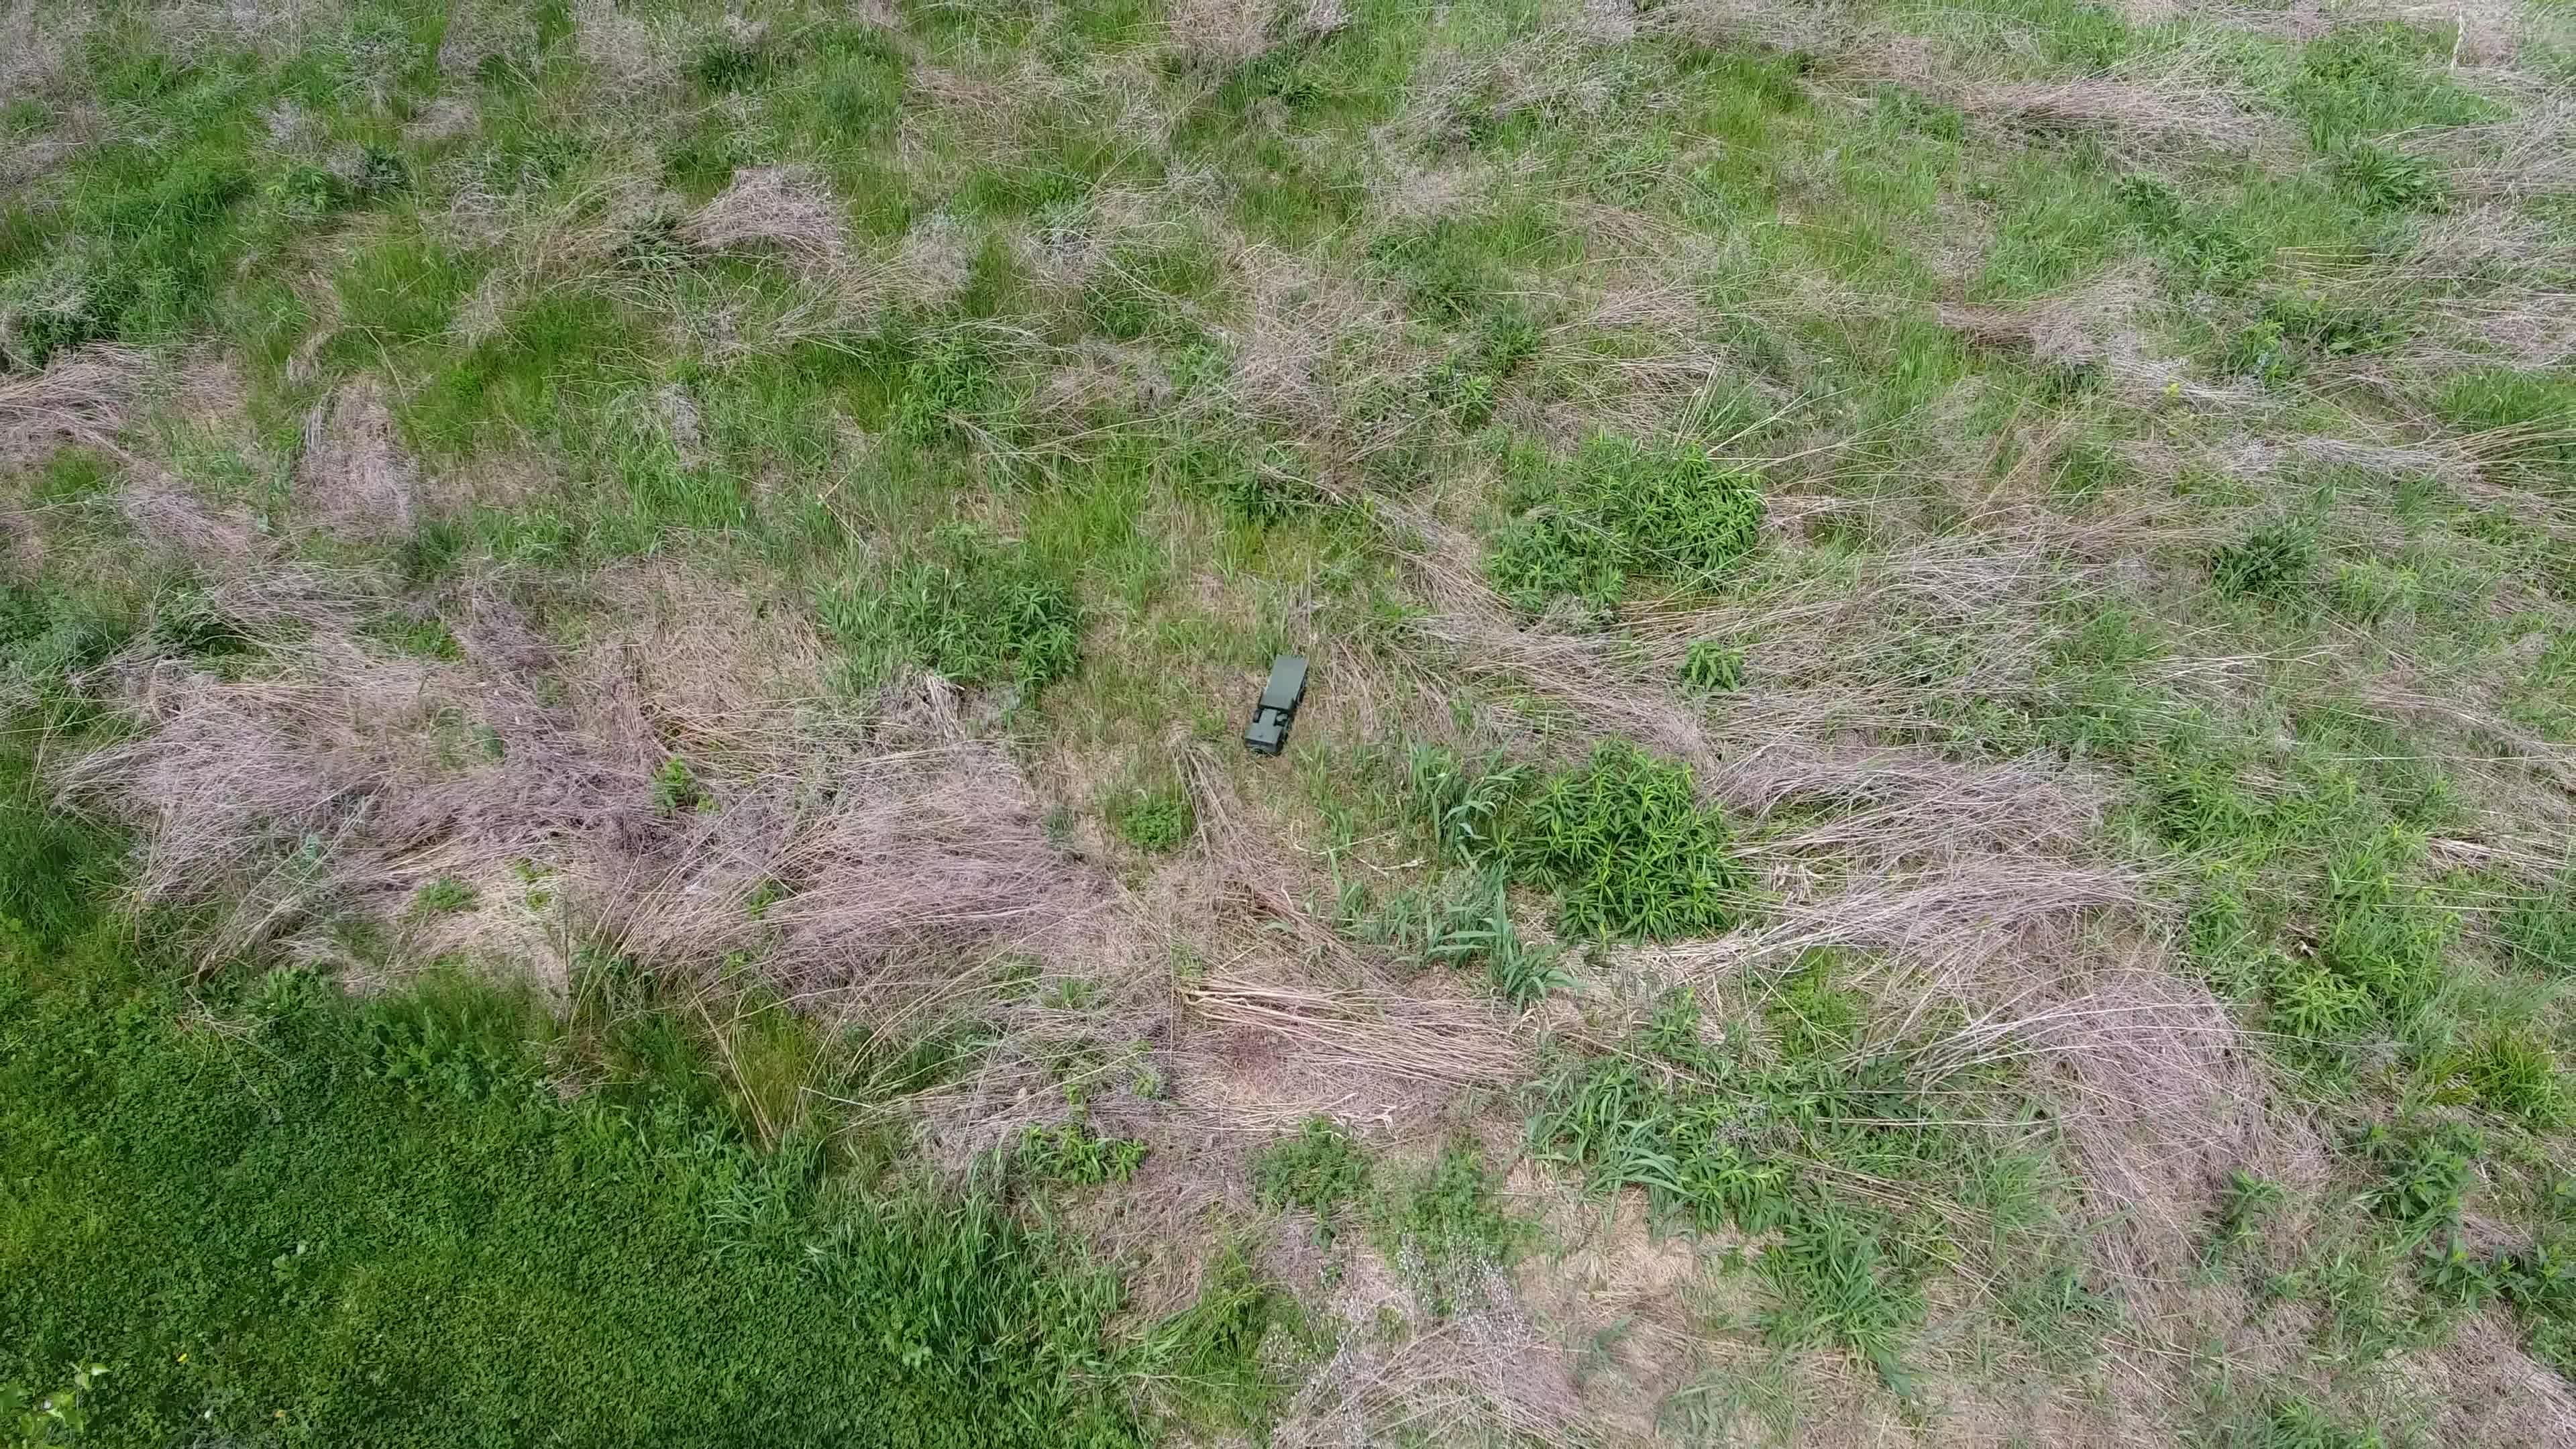transporter9: (1242, 649, 1313, 757)
